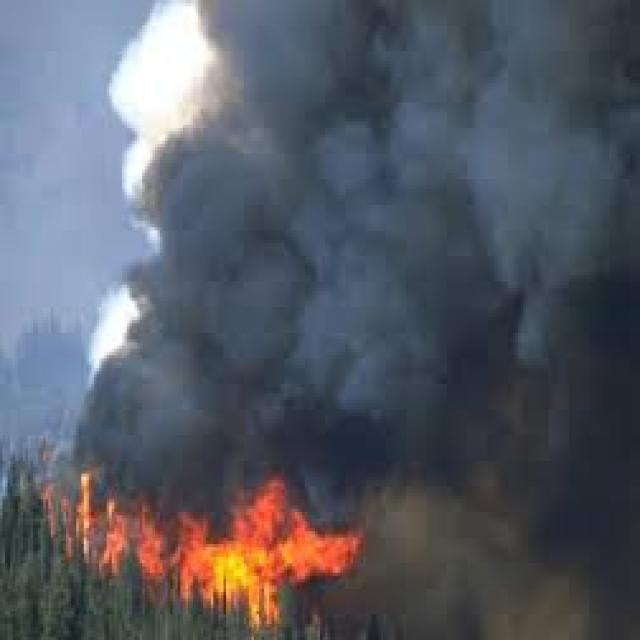Fire: (36, 464, 360, 640)
Smoke: (66, 0, 640, 460), (360, 457, 637, 640)
